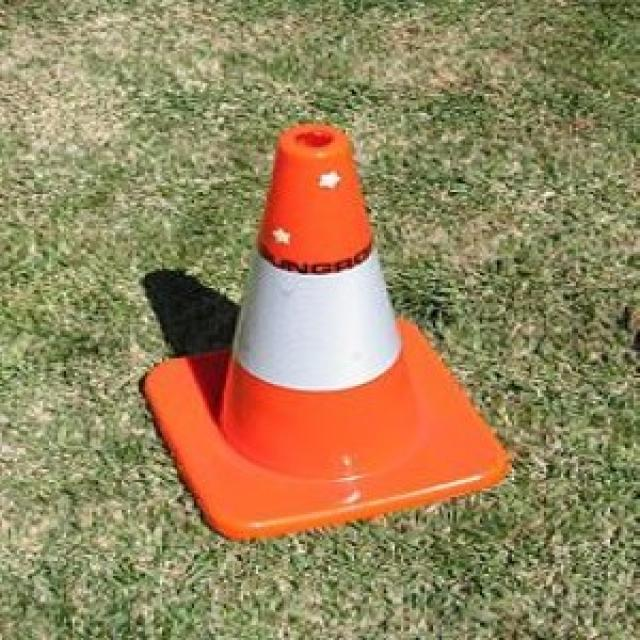cone: (141, 123, 503, 538)
